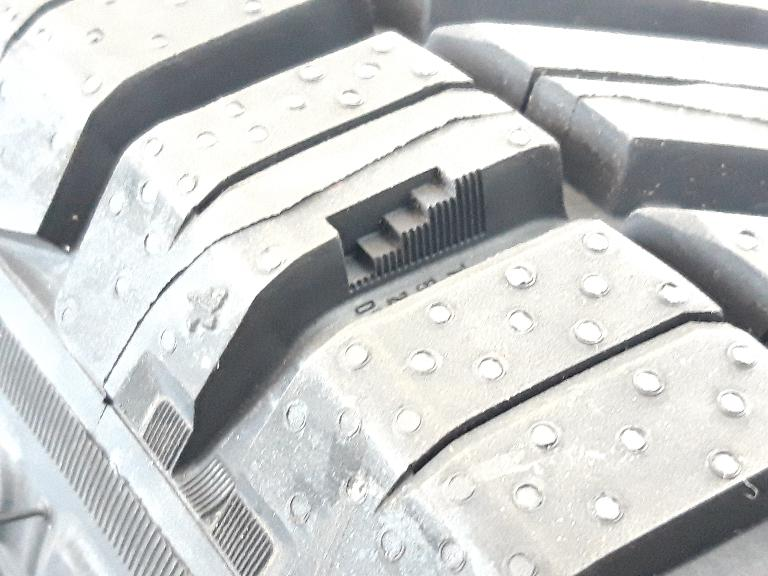temoin:100: (321, 159, 496, 300)
